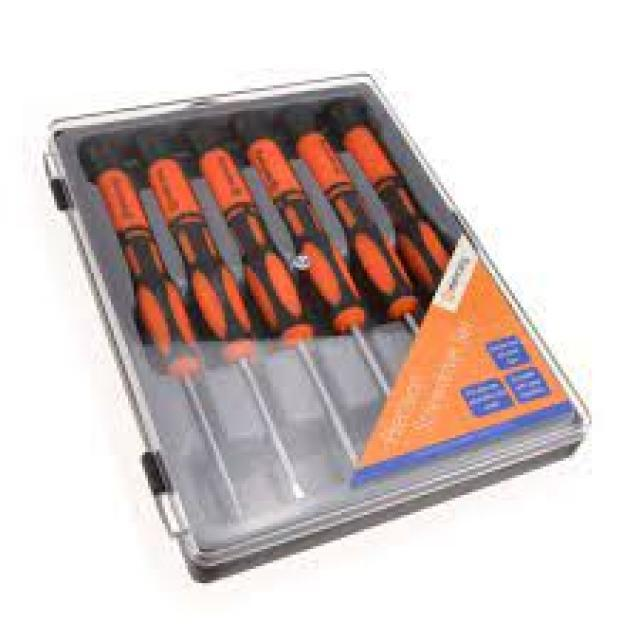screwdriver: (90, 159, 254, 532), (143, 158, 314, 508), (201, 145, 371, 484)
